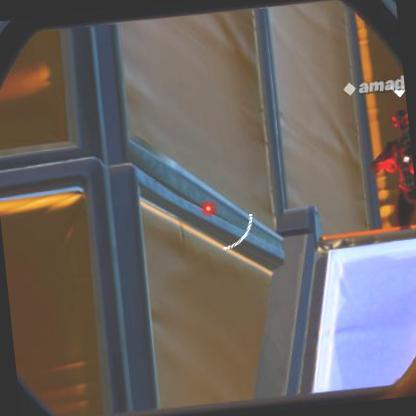person: (379, 106, 416, 229)
